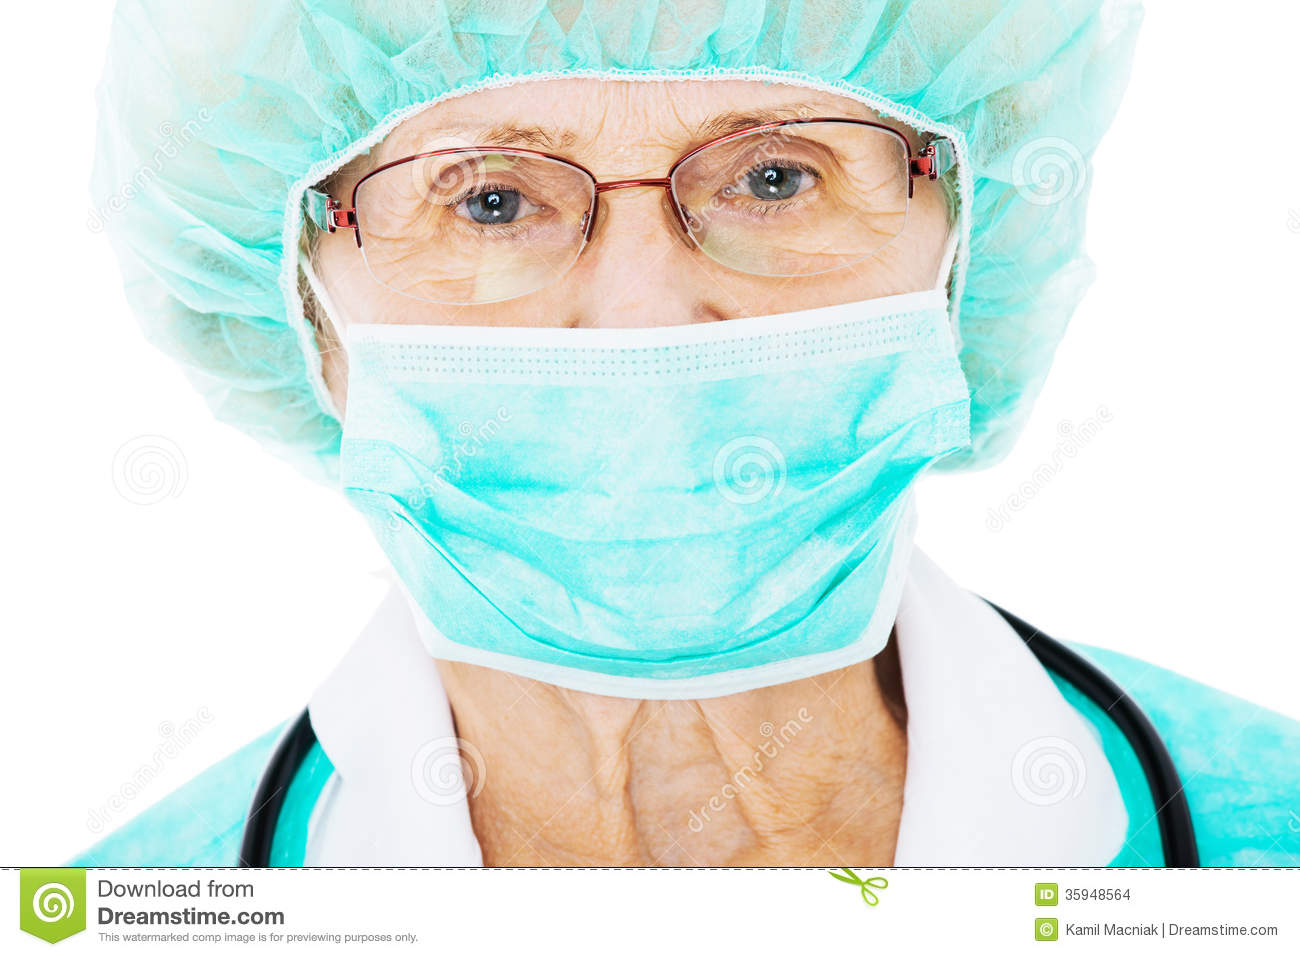mask: (323, 310, 972, 667)
